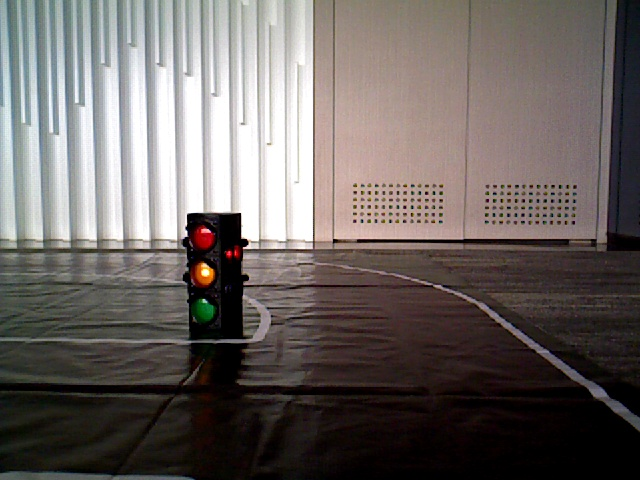yellow: (185, 216, 225, 330)
